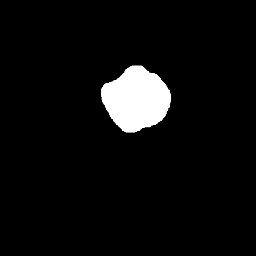mass: (102, 73, 170, 133)
